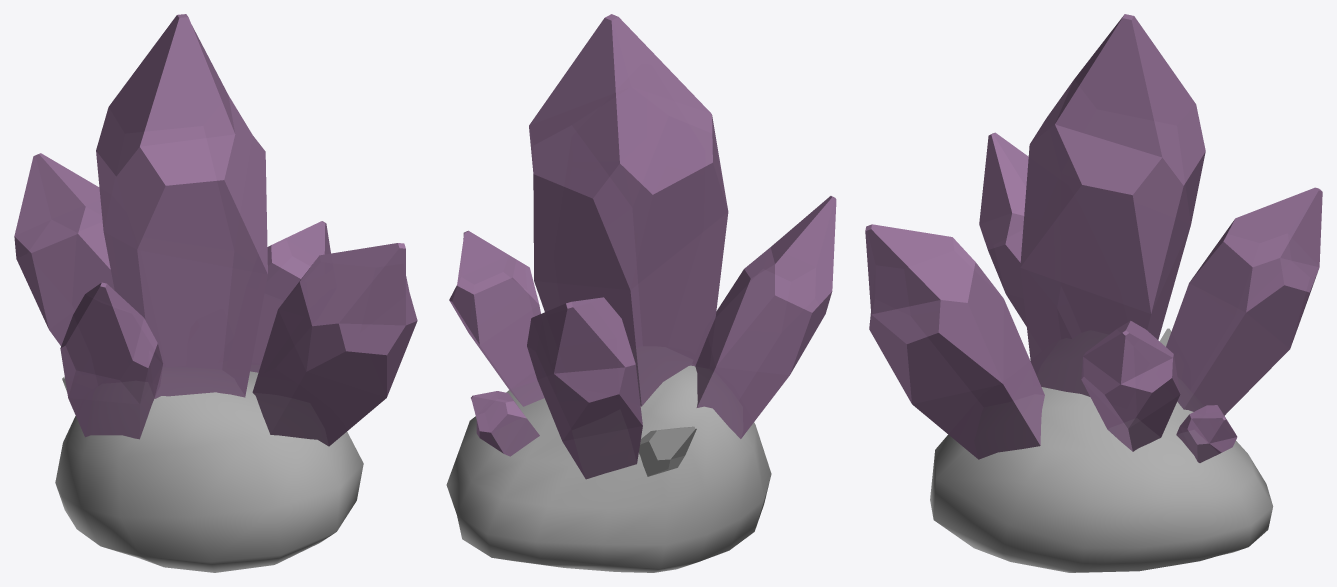
Rendered from crystals_low.fbx.
3 views of the same model, side by side, from view 1: azimuth 30°, elevation 25°; view 2: azimuth 150°, elevation 25°; view 3: azimuth 270°, elevation 25° (orthographic). The views are drawn at different scales.
Parts seen in each view (by area): view 1: pCube1, pCube2, pCube3, pCube4, pCube6, pCube5; view 2: pCube1, pCube2, pCube6, pCube4, pCube5, pCube8, pCube7; view 3: pCube1, pCube2, pCube3, pCube4, pCube5, pCube6, pCube8.
Part boxes in pixels (left/top/right/bottom): pCube1: left=96, top=14, right=267, bottom=398; pCube2: left=55, top=371, right=363, bottom=572; pCube3: left=252, top=243, right=417, bottom=446; pCube4: left=14, top=153, right=114, bottom=345; pCube6: left=60, top=282, right=162, bottom=439; pCube5: left=250, top=221, right=330, bottom=372; pCube1: left=529, top=14, right=728, bottom=406; pCube2: left=446, top=365, right=771, bottom=572; pCube6: left=695, top=196, right=836, bottom=438; pCube4: left=527, top=297, right=642, bottom=479; pCube5: left=449, top=230, right=544, bottom=406; pCube8: left=471, top=391, right=539, bottom=456; pCube7: left=639, top=426, right=696, bottom=476; pCube1: left=1020, top=14, right=1205, bottom=396; pCube2: left=930, top=387, right=1273, bottom=572; pCube3: left=865, top=224, right=1044, bottom=459; pCube4: left=1166, top=187, right=1322, bottom=415; pCube5: left=1081, top=320, right=1180, bottom=451; pCube6: left=979, top=132, right=1028, bottom=326; pCube8: left=1176, top=405, right=1237, bottom=462.
Size of the model in its own units: 0.1083 by 0.1659 by 0.1343.
